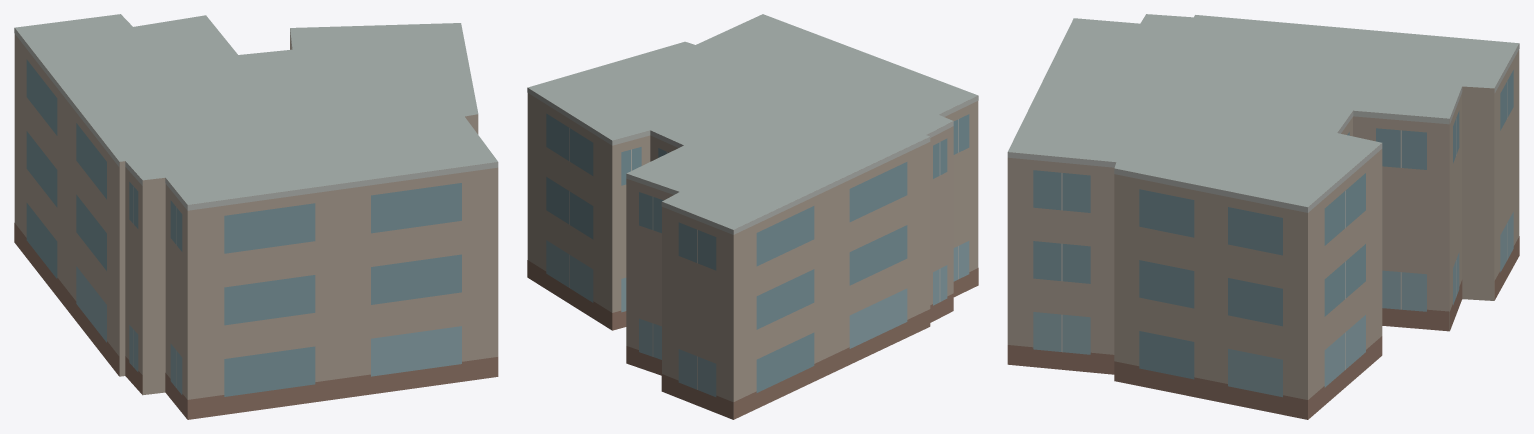
The model's file is survey-upis-32707417.glb.
The picture shows the model from 3 angles, left to right: view 1: azimuth 30°, elevation 25°; view 2: azimuth 150°, elevation 25°; view 3: azimuth 270°, elevation 25°; orthographic projection. The views are drawn at different scales.
Parts seen in each view (by area): view 1: survey-upis-32707417.tmp; view 2: survey-upis-32707417.tmp; view 3: survey-upis-32707417.tmp.
Boxes of the visible parts, left/top/right/bottom form: survey-upis-32707417.tmp: left=14, top=14, right=498, bottom=419; survey-upis-32707417.tmp: left=527, top=14, right=978, bottom=419; survey-upis-32707417.tmp: left=1007, top=14, right=1519, bottom=419.
Size of the model in its own units: 17.85 by 9.15 by 19.97.
